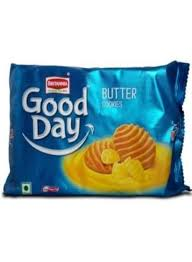gooday-medium: (5, 63, 186, 197)
